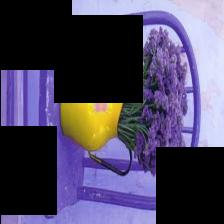yellow: (59, 71, 126, 151)
